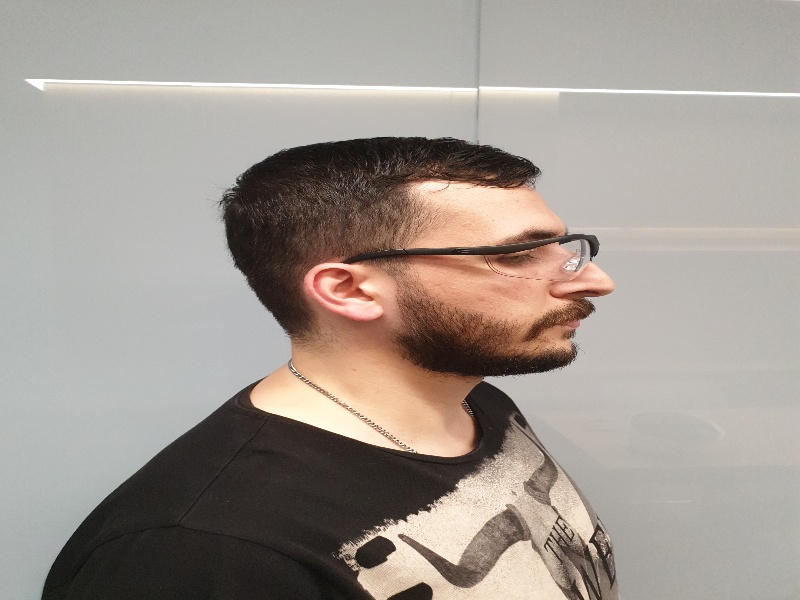Gozluk: (362, 232, 604, 274)
